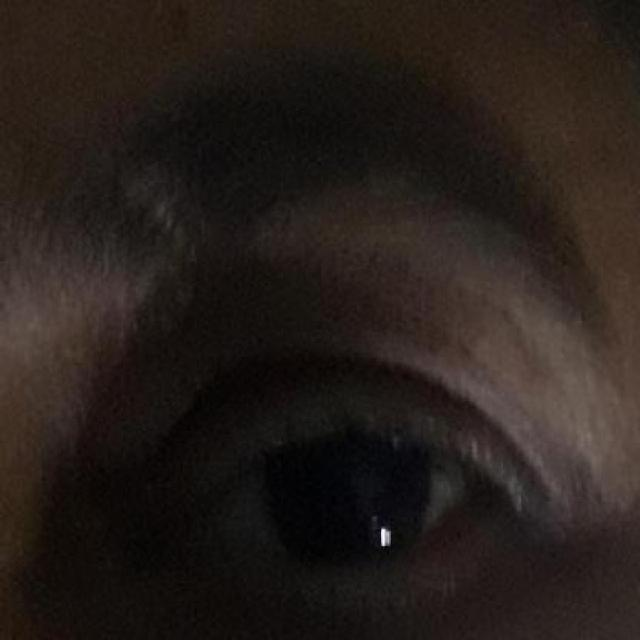awake: (176, 373, 507, 598)
